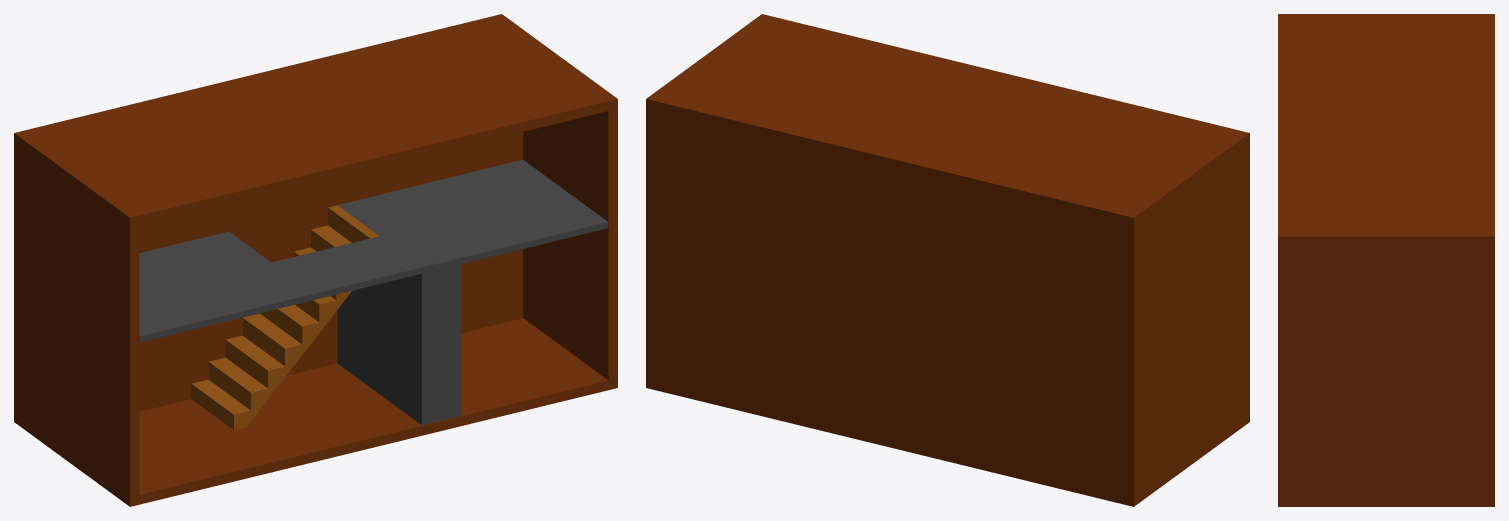
The model's file is evdeneme.fbx.
3 views of the same model, side by side, from view 1: azimuth 30°, elevation 25°; view 2: azimuth 150°, elevation 25°; view 3: azimuth 270°, elevation 25° (orthographic). The views are drawn at different scales.
Parts seen in each view (by area): view 1: Cube, Cube.001, Cube.002; view 2: Cube; view 3: Cube.
Part boxes in pixels (x1,y1,x2,y2): Cube: (14,14,617,506); Cube.001: (139,160,608,425); Cube.002: (191,205,379,429); Cube: (646,14,1249,506); Cube: (1278,14,1494,506).
Bounding box in the file's own units: 2246 × 1272 × 925.
